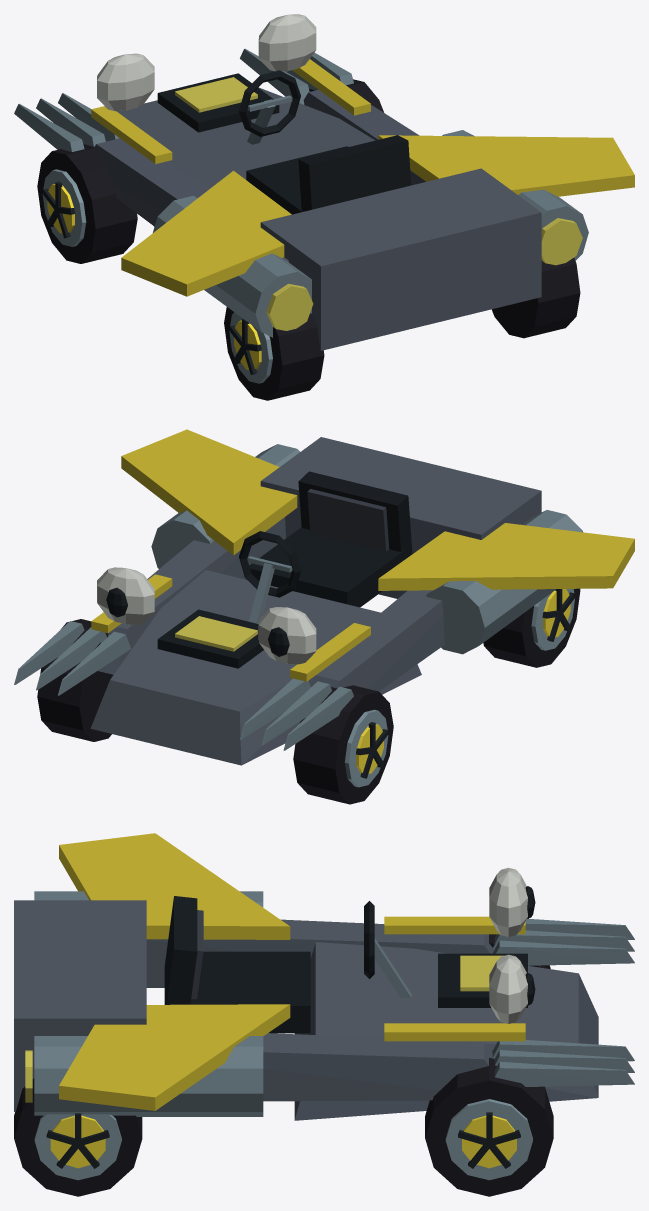
The model's file is kart.glb.
3 views of the same model, one above another, from view 1: azimuth 30°, elevation 25°; view 2: azimuth 150°, elevation 25°; view 3: azimuth 270°, elevation 25° (orthographic). The views are drawn at different scales.
Parts seen in each view (by area): view 1: identity-lab-pod-lab-pod-segmented-shell, identity-lab-pod-motif-wings, identity-lab-pod-driver-cockpit, wheel-front-left, wheel-rear-left, identity-lab-pod-motif-eyes, identity-lab-pod-motif-claws, wheel-rear-right; view 2: identity-lab-pod-lab-pod-segmented-shell, identity-lab-pod-motif-wings, identity-lab-pod-driver-cockpit, identity-lab-pod-motif-claws, wheel-front-left, identity-lab-pod-motif-eyes, wheel-rear-left, wheel-front-right; view 3: identity-lab-pod-lab-pod-segmented-shell, identity-lab-pod-motif-wings, wheel-front-right, identity-lab-pod-driver-cockpit, identity-lab-pod-motif-claws, wheel-rear-right, identity-lab-pod-motif-eyes.
Boxes of the visible parts, <box> form: identity-lab-pod-lab-pod-segmented-shell: <box>91,59,588,350</box>; identity-lab-pod-motif-wings: <box>121,135,634,296</box>; identity-lab-pod-driver-cockpit: <box>239,70,411,214</box>; wheel-front-left: <box>37,144,137,263</box>; wheel-rear-left: <box>224,307,324,400</box>; identity-lab-pod-motif-eyes: <box>97,14,316,111</box>; identity-lab-pod-motif-claws: <box>14,48,353,151</box>; wheel-rear-right: <box>491,258,580,338</box>; identity-lab-pod-lab-pod-segmented-shell: <box>90,437,582,765</box>; identity-lab-pod-motif-wings: <box>121,429,634,590</box>; identity-lab-pod-driver-cockpit: <box>239,471,412,623</box>; identity-lab-pod-motif-claws: <box>14,621,353,750</box>; wheel-front-left: <box>293,685,393,804</box>; identity-lab-pod-motif-eyes: <box>97,567,316,664</box>; wheel-rear-left: <box>483,588,580,667</box>; wheel-front-right: <box>37,619,113,741</box>; identity-lab-pod-lab-pod-segmented-shell: <box>14,891,598,1120</box>; identity-lab-pod-motif-wings: <box>59,833,290,1110</box>; wheel-front-right: <box>425,1057,553,1196</box>; identity-lab-pod-driver-cockpit: <box>164,896,411,1033</box>; identity-lab-pod-motif-claws: <box>492,918,634,1086</box>; wheel-rear-right: <box>14,1078,142,1196</box>; identity-lab-pod-motif-eyes: <box>489,867,535,1023</box>.
Bounding box in the file's own units: 2.92 × 1.09 × 2.9.
